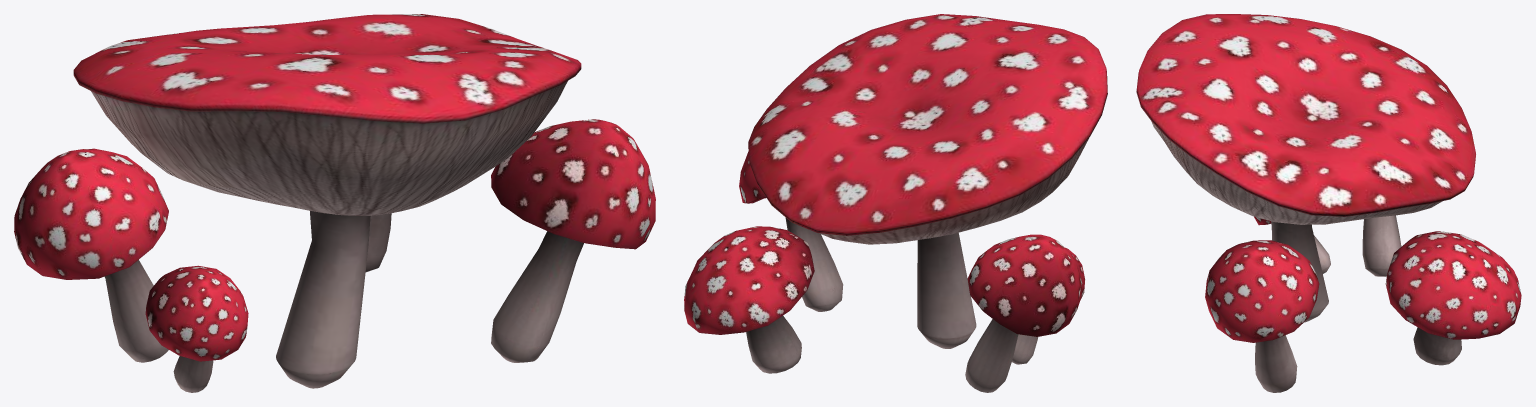
The model's file is Red_shrooms_01.fbx.
3 views of the same model, side by side, from view 1: azimuth 30°, elevation 25°; view 2: azimuth 150°, elevation 25°; view 3: azimuth 270°, elevation 25° (orthographic). The views are drawn at different scales.
Parts seen in each view (by area): view 1: big_red_shroom1, tiny_red_shroom8, tiny_red_shroom1, tiny_red_shroom2, Small_red_shroom1; view 2: big_red_shroom1, Small_red_shroom1, tiny_red_shroom1, tiny_red_shroom8, tiny_red_shroom2; view 3: big_red_shroom1, Small_red_shroom1, tiny_red_shroom8, tiny_red_shroom1, tiny_red_shroom2.
Part boxes in pixels (left/top/right/bottom): big_red_shroom1: left=73, top=14, right=581, bottom=388; tiny_red_shroom8: left=491, top=119, right=655, bottom=362; tiny_red_shroom1: left=14, top=148, right=168, bottom=362; tiny_red_shroom2: left=145, top=265, right=248, bottom=392; Small_red_shroom1: left=365, top=213, right=391, bottom=272; big_red_shroom1: left=748, top=14, right=1107, bottom=348; Small_red_shroom1: left=684, top=226, right=814, bottom=373; tiny_red_shroom1: left=965, top=234, right=1082, bottom=392; tiny_red_shroom8: left=739, top=151, right=843, bottom=311; tiny_red_shroom2: left=1012, top=248, right=1085, bottom=364; big_red_shroom1: left=1136, top=14, right=1475, bottom=322; Small_red_shroom1: left=1385, top=231, right=1521, bottom=365; tiny_red_shroom8: left=1205, top=240, right=1319, bottom=392; tiny_red_shroom1: left=1362, top=215, right=1401, bottom=276; tiny_red_shroom2: left=1254, top=216, right=1330, bottom=273.
Size of the model in its own units: 82.6 by 56.96 by 73.79.
